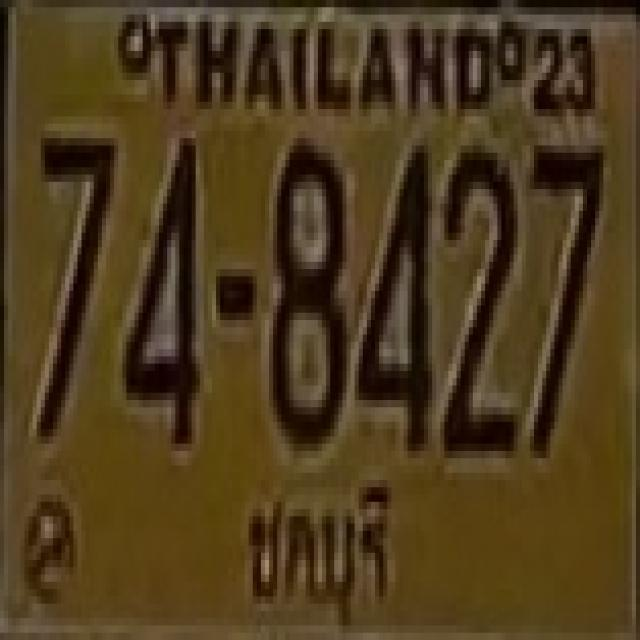2: (440, 142, 514, 447)
4: (122, 127, 196, 440), (357, 138, 430, 444)
7: (35, 127, 112, 433), (528, 138, 601, 451)
8: (269, 135, 342, 440)
CBI: (239, 453, 403, 634)
